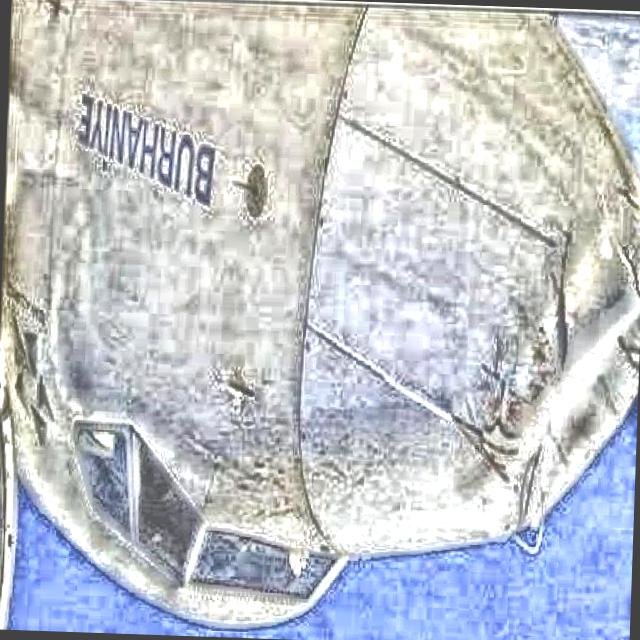dent: (446, 299, 638, 542)
